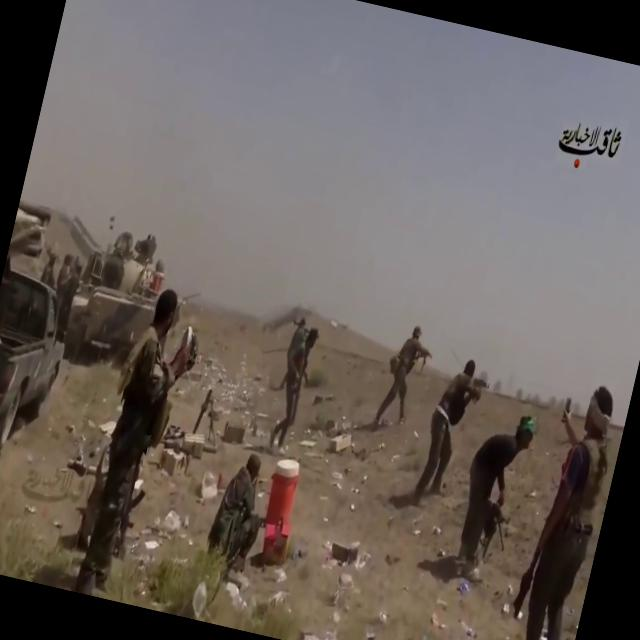long weapon: (462, 373, 498, 407)
